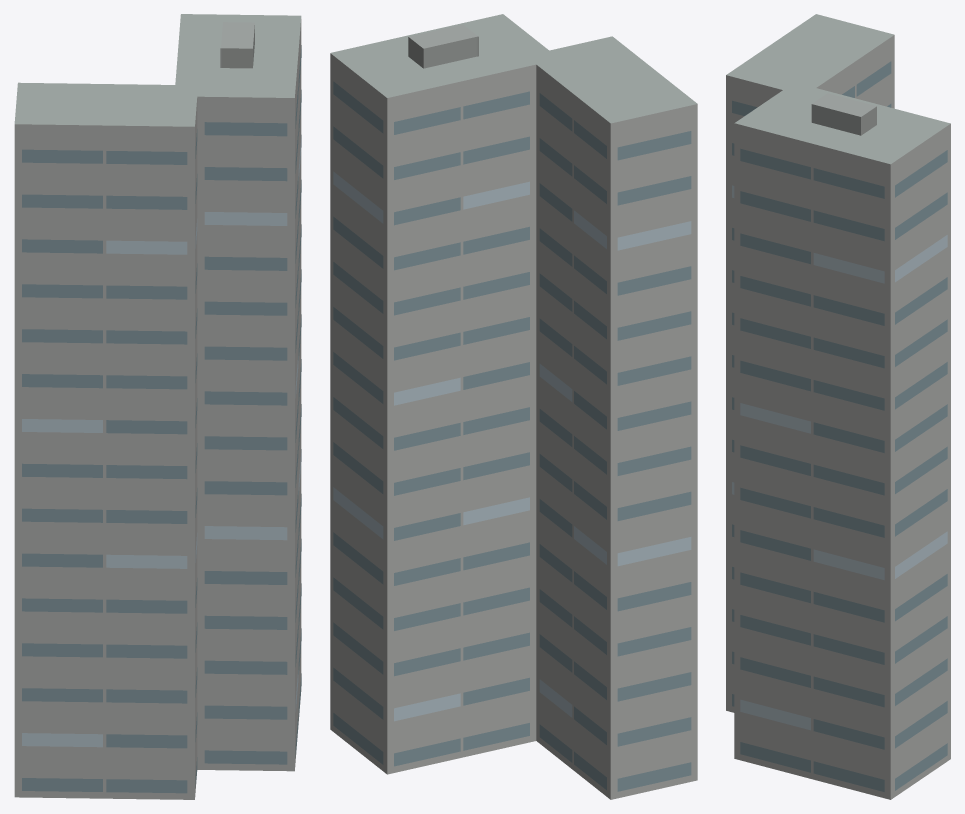
Rendered from fallback-jamsil-parkrio-315.glb.
The picture shows the model from 3 angles, left to right: view 1: azimuth 30°, elevation 25°; view 2: azimuth 150°, elevation 25°; view 3: azimuth 270°, elevation 25°; orthographic projection. The views are drawn at different scales.
Visible parts, largest first — view 1: fallback-jamsil-parkrio-315; view 2: fallback-jamsil-parkrio-315; view 3: fallback-jamsil-parkrio-315.
Part boxes in pixels (left/top/right/bottom): fallback-jamsil-parkrio-315: left=14, top=14, right=301, bottom=799; fallback-jamsil-parkrio-315: left=330, top=14, right=697, bottom=799; fallback-jamsil-parkrio-315: left=726, top=14, right=950, bottom=799.
Size of the model in its own units: 41.4 by 84 by 26.17.
